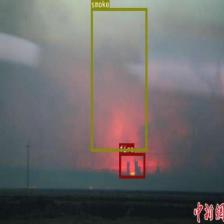fire: (119, 152, 145, 178)
smoke: (90, 8, 146, 151)
